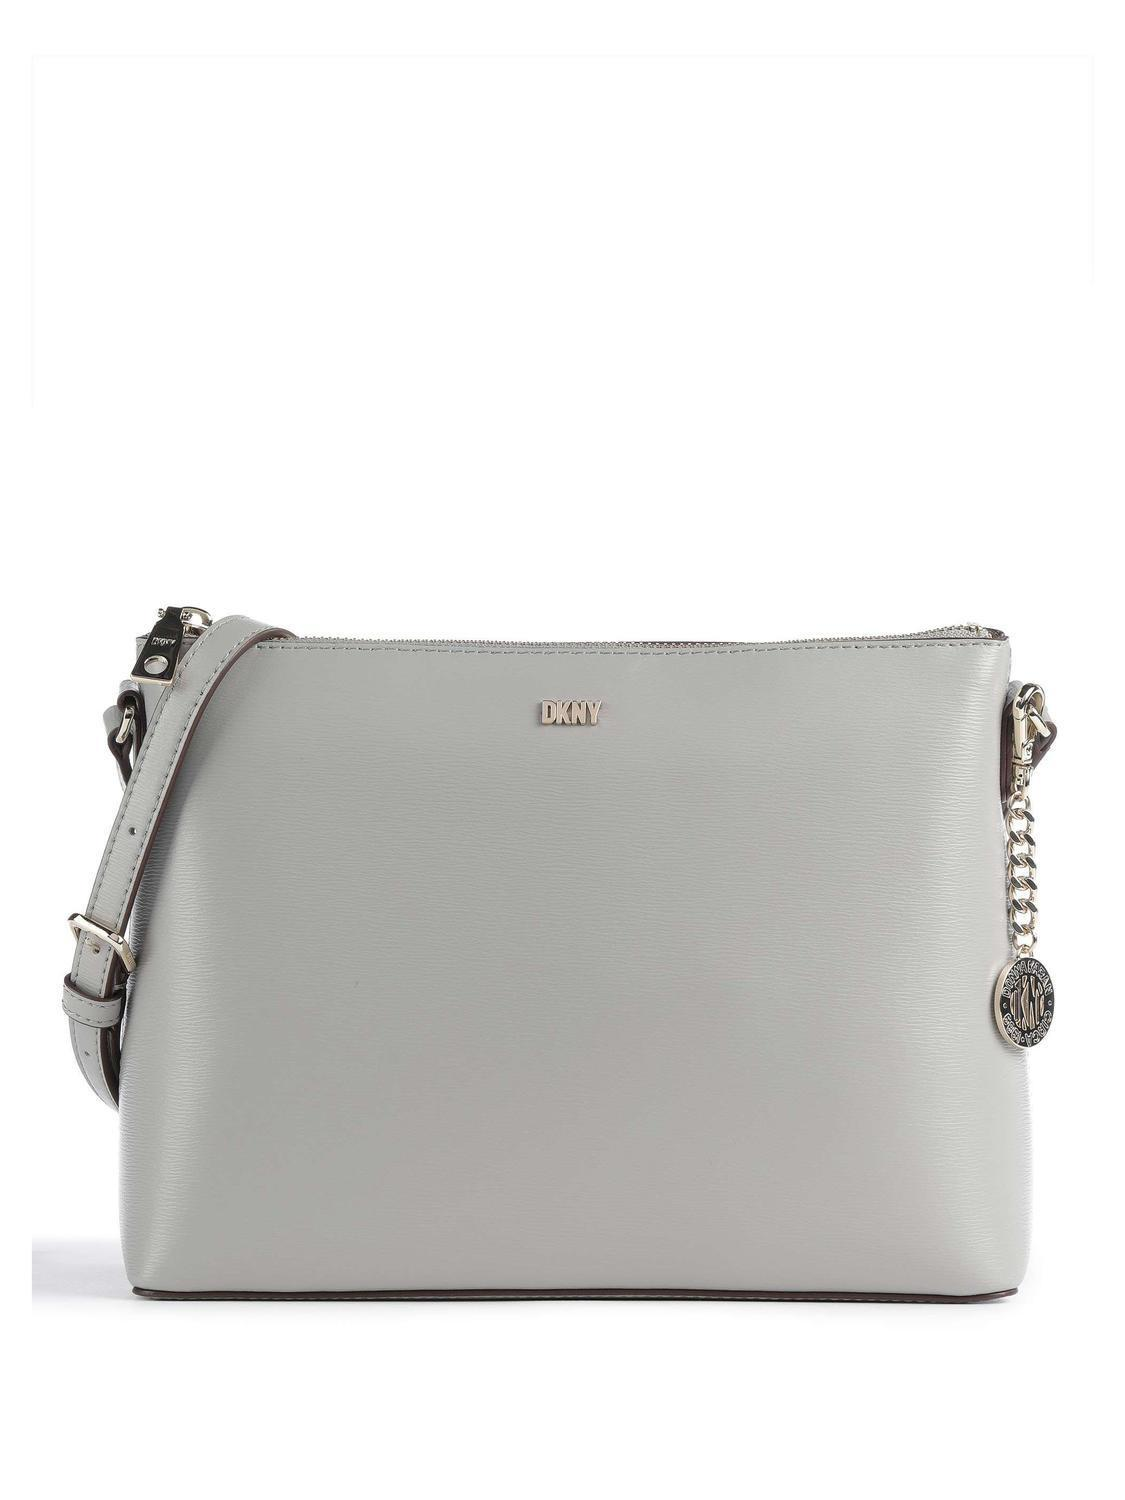DKNY: (541, 699, 603, 725)
